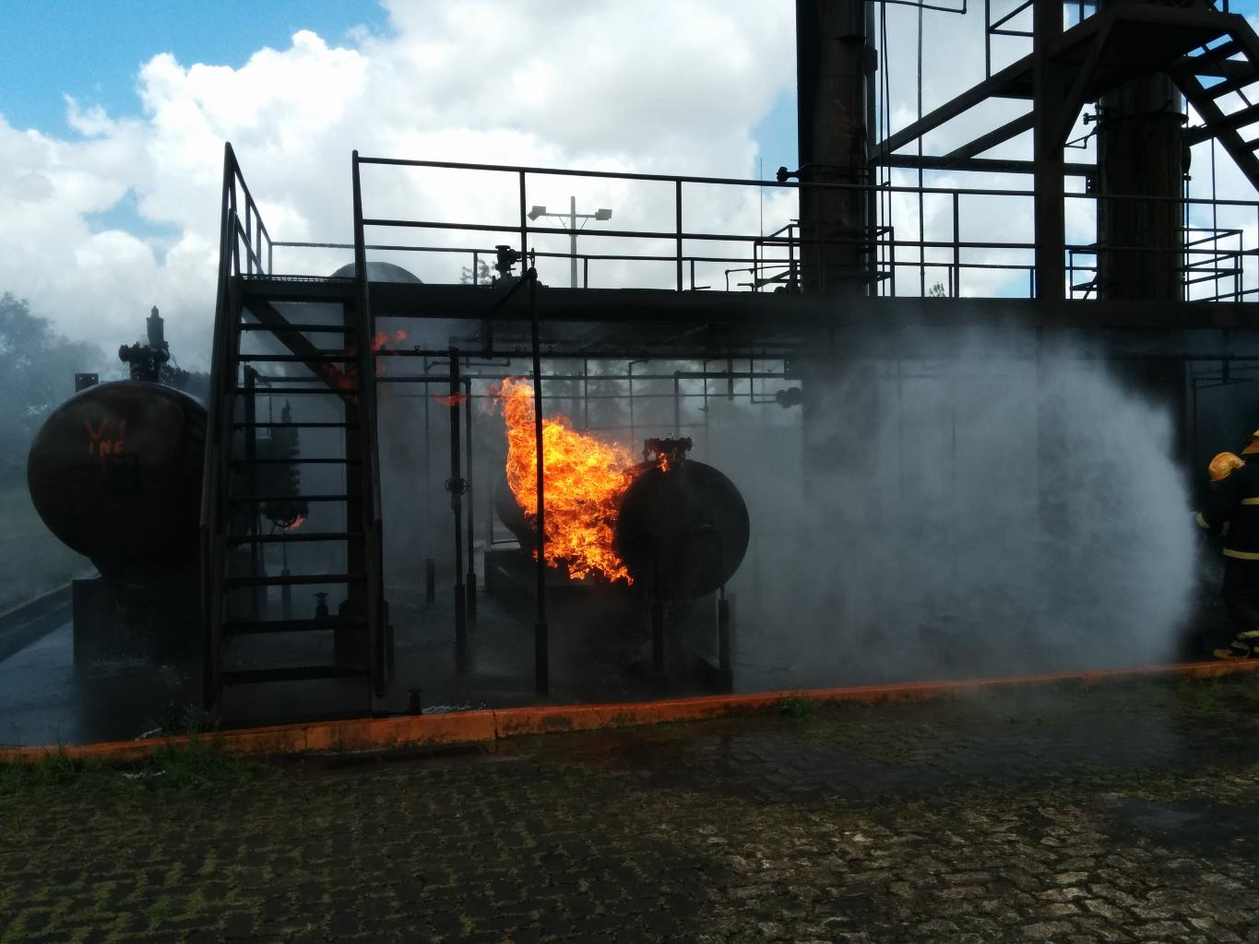fire: (541, 415, 632, 580), (497, 378, 539, 517)
